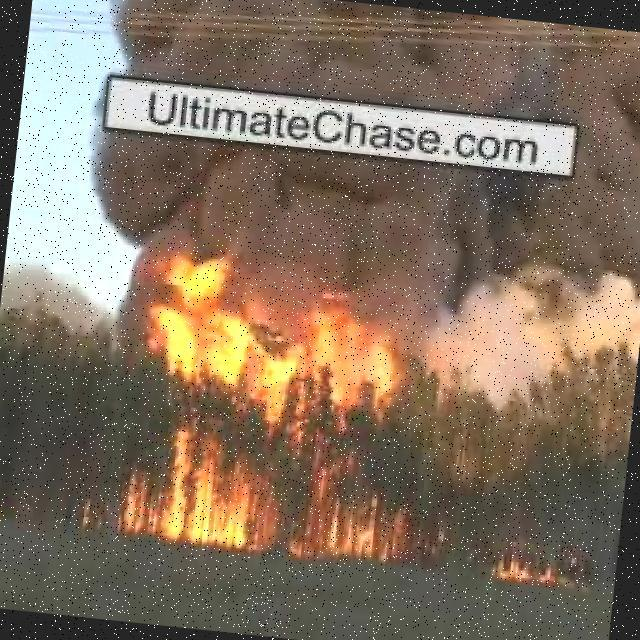Fire: (116, 253, 440, 566), (475, 551, 570, 587)
